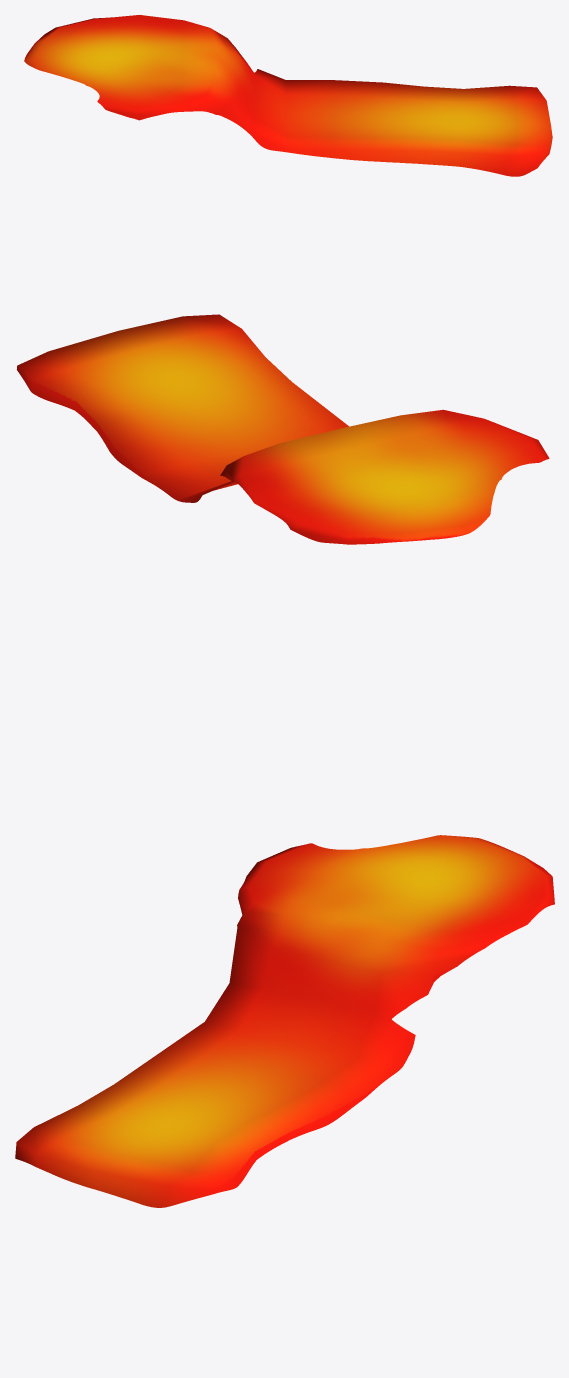
Rendered from SM_Terrainlvl2fix2.fbx.
The picture shows the model from 3 angles, top to bottom: view 1: azimuth 30°, elevation 25°; view 2: azimuth 150°, elevation 25°; view 3: azimuth 270°, elevation 25°; orthographic projection. The views are drawn at different scales.
Visible parts, largest first — view 1: Plane; view 2: Plane; view 3: Plane.
Part boxes in pixels (x1,y1,x2,y2): Plane: (24, 15, 552, 176); Plane: (16, 314, 549, 544); Plane: (15, 835, 554, 1207).
Size of the model in its own units: 1295 by 539 by 1019.
